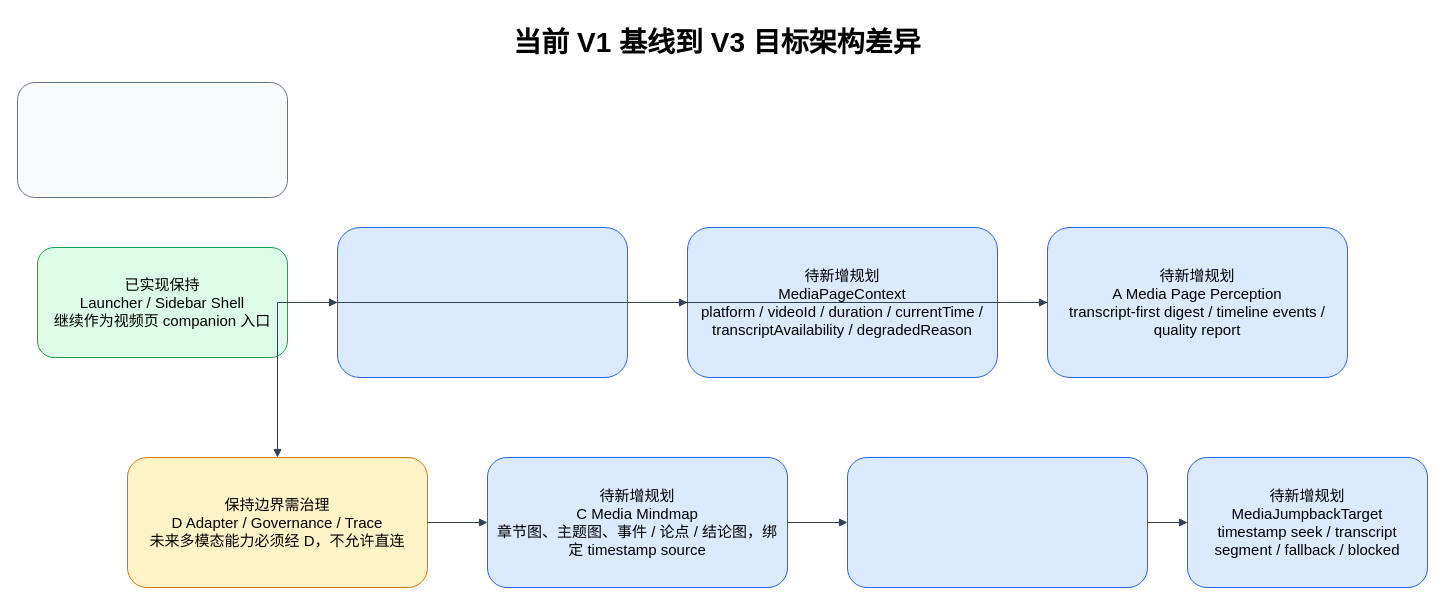
This 1445x605 diagram has some shape labels left out. The shapes that lost their labels are listed below. From the top down, each one's centre as x and y in pixels, then its label:
(x=152, y=140): 绿色=已实现保持 蓝色=待新增规划 黄色=保持边界需治理 红色=No-Go
(x=482, y=302): 待新增规划 Content Script Media Collector 平台识别、播放器时间、字幕入口、章节、评论 / 弹幕可见文本
(x=997, y=522): 待新增规划 B Media Companion Renderer 视频概览、章节时间轴、截图证据卡、Ask Video
